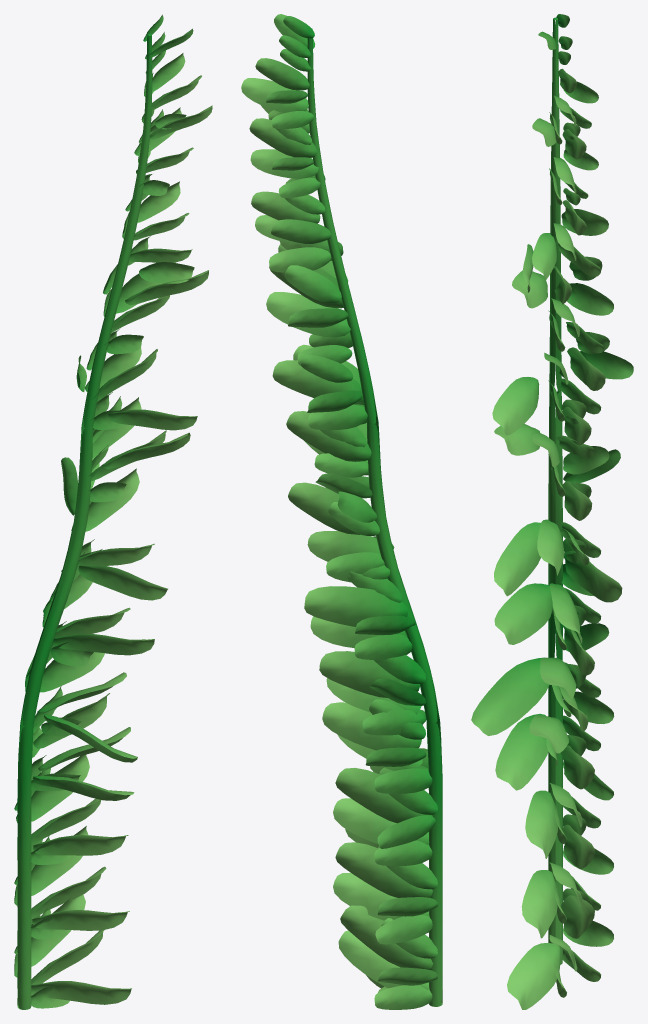
The model's file is kelp.obj.
3 renders of one model, left to right at view 1: azimuth 30°, elevation 25°; view 2: azimuth 150°, elevation 25°; view 3: azimuth 270°, elevation 25°, orthographic. The views are drawn at different scales.
Visible parts, largest first — view 1: Leaf12_meshId12_name; view 2: Leaf12_meshId12_name; view 3: Leaf12_meshId12_name.
Part boxes in pixels (<box>): Leaf12_meshId12_name: <box>14,14,212,1009</box>; Leaf12_meshId12_name: <box>241,14,442,1009</box>; Leaf12_meshId12_name: <box>471,14,633,1009</box>.
Size of the model in its own units: 0.5429 by 2.62 by 0.3741.
